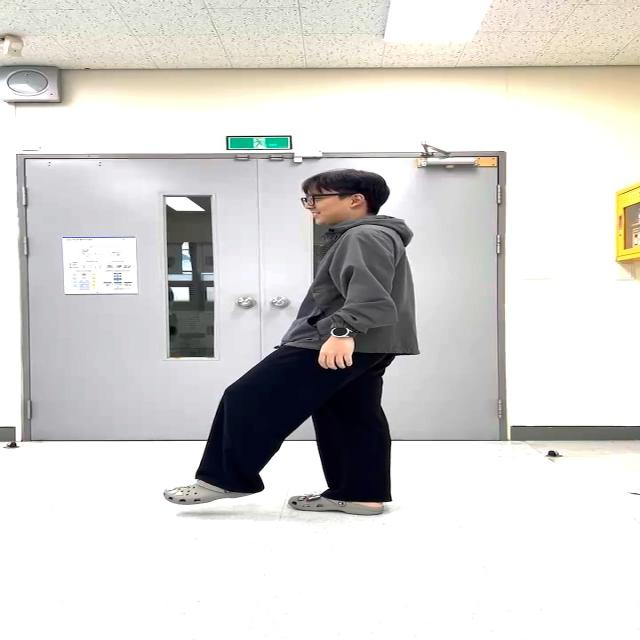leg: (164, 344, 326, 501)
